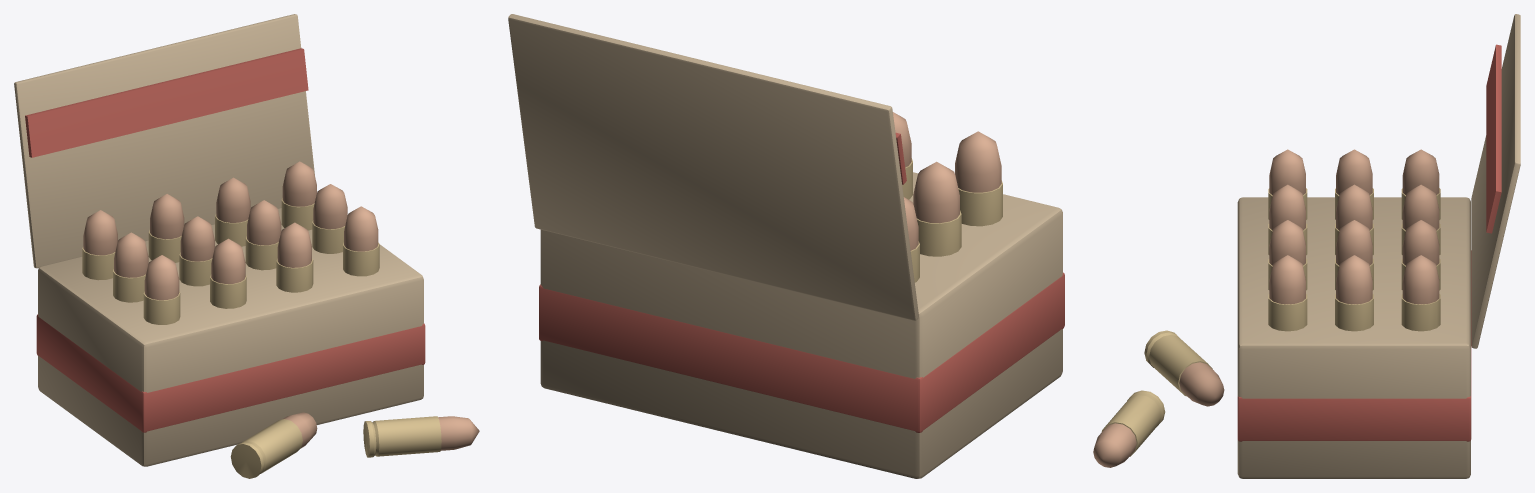
Rendered from pistol-ammo.glb.
The picture shows the model from 3 angles, left to right: view 1: azimuth 30°, elevation 25°; view 2: azimuth 150°, elevation 25°; view 3: azimuth 270°, elevation 25°; orthographic projection. The views are drawn at different scales.
Visible parts, largest first — view 1: Body_lod0; view 2: Body_lod0; view 3: Body_lod0.
Part boxes in pixels (<box>): Body_lod0: <box>14,14,479,478</box>; Body_lod0: <box>508,14,1064,478</box>; Body_lod0: <box>1093,14,1520,478</box>.
Size of what is drawn, in the model's own units: 0.0852 by 0.0842 by 0.1026.
